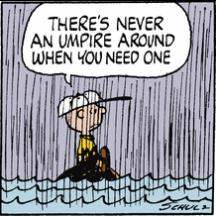charlie: (57, 88, 111, 172)
